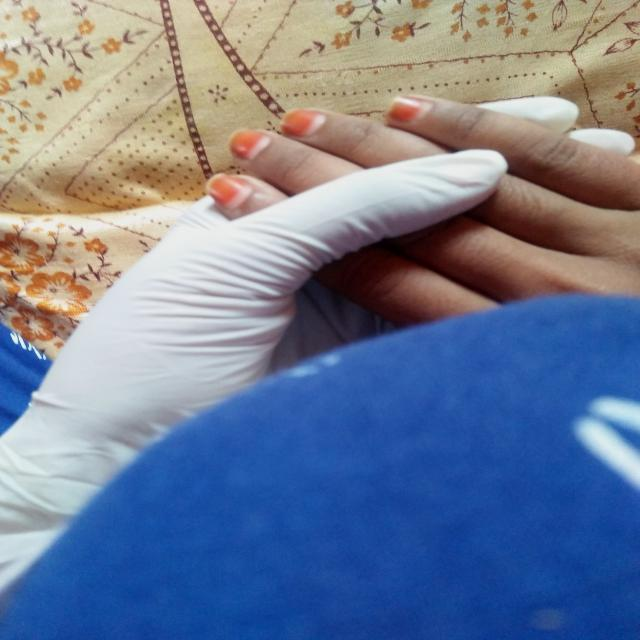glove: (0, 94, 635, 611)
